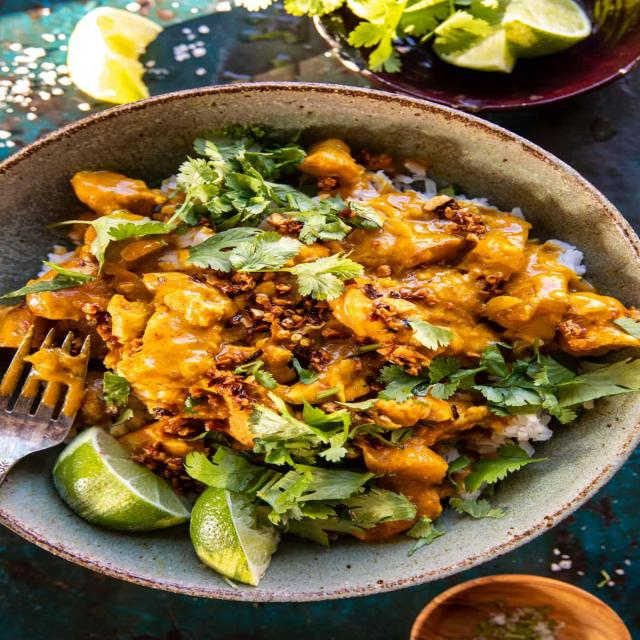chicken: (2, 136, 640, 565)
